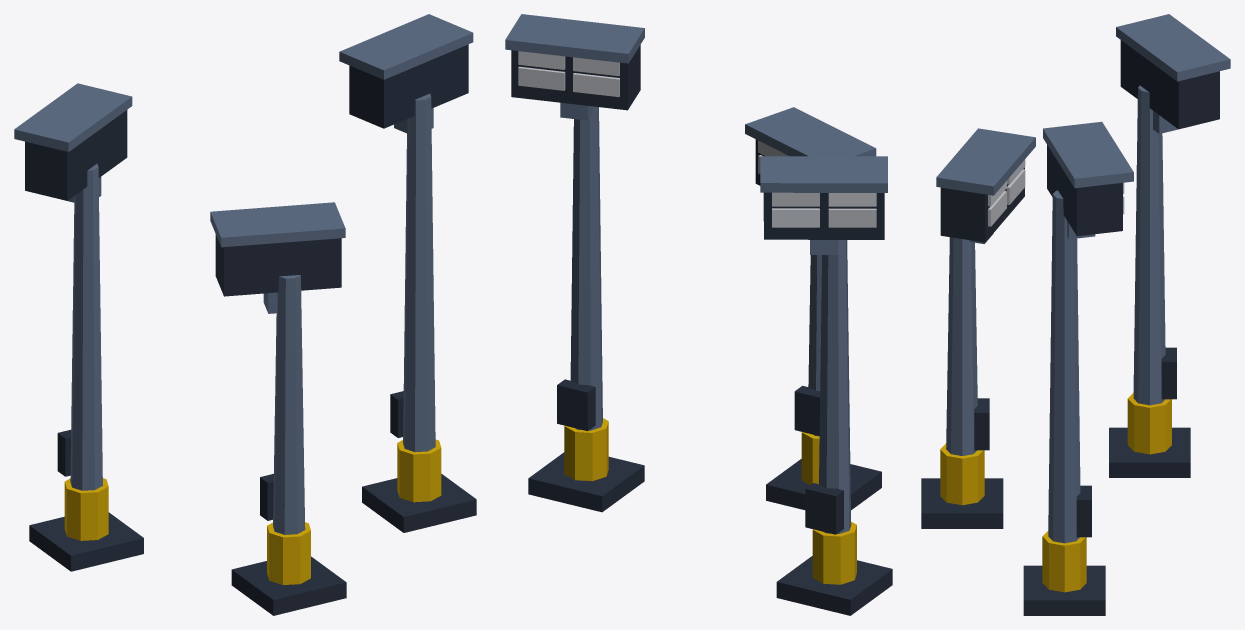
File: Decor_MechaHangar_Floodlights.fbx
3 renders of one model, left to right at view 1: azimuth 30°, elevation 25°; view 2: azimuth 150°, elevation 25°; view 3: azimuth 270°, elevation 25°, orthographic. The views are drawn at different scales.
Visible parts, largest first — view 1: Floodlights_Body; view 2: Floodlights_Body; view 3: Floodlights_Body.
Boxes of the visible parts, left/top/right/bottom form: Floodlights_Body: left=14, top=14, right=476, bottom=615; Floodlights_Body: left=505, top=14, right=892, bottom=615; Floodlights_Body: left=921, top=14, right=1230, bottom=615.
Size of the model in its own units: 13.15 by 14 by 8.76.
